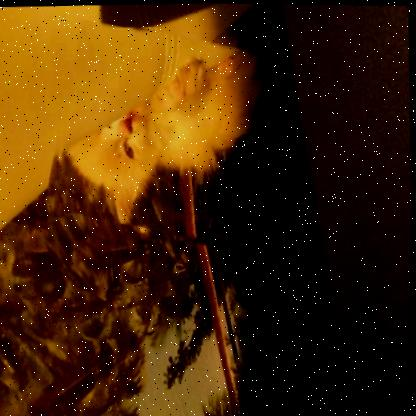cat: (45, 21, 270, 249)
